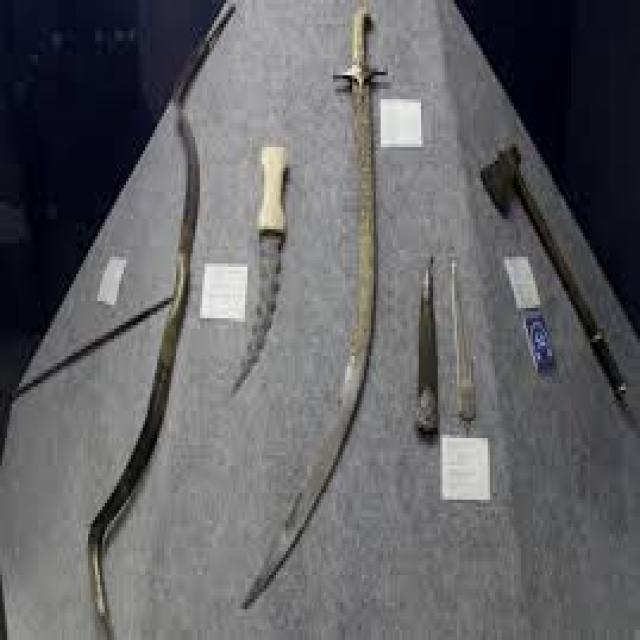Gun: (277, 1, 393, 638), (478, 137, 640, 415), (228, 125, 291, 424), (448, 245, 488, 439)
